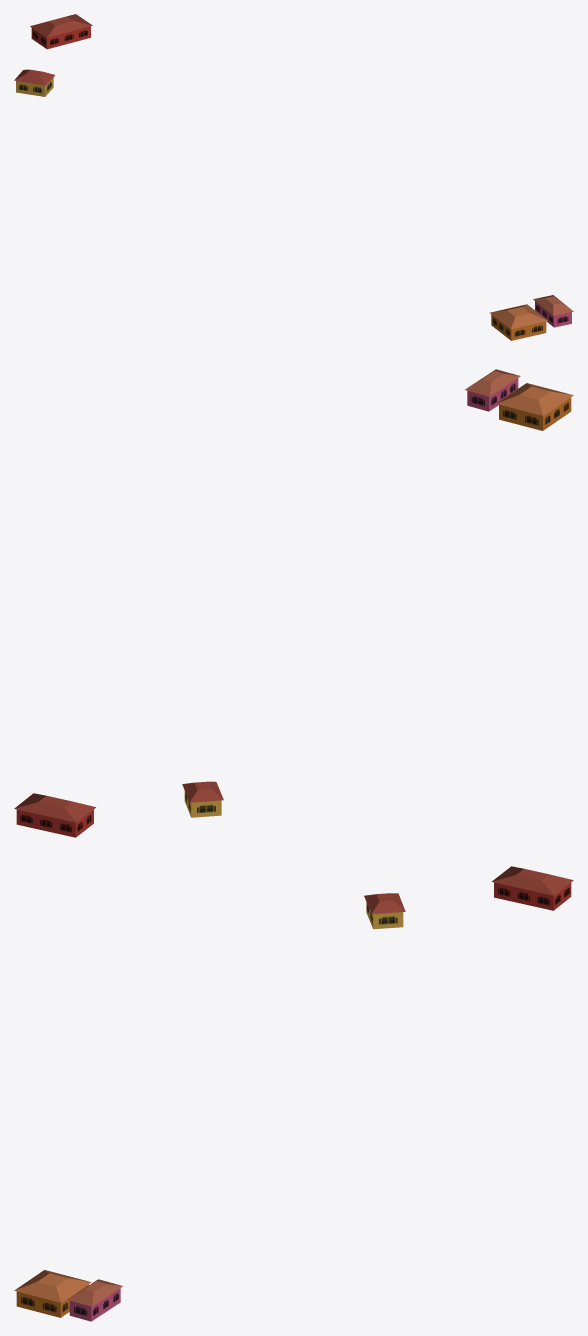
The model's file is msb_oranjestad_m9_m1.glb.
The picture shows the model from 3 angles, top to bottom: view 1: azimuth 30°, elevation 25°; view 2: azimuth 150°, elevation 25°; view 3: azimuth 330°, elevation 25°; orthographic projection. The views are drawn at different scales.
Parts seen in each view (by area): view 1: msb_oranjestad_m9_m1_lod0; view 2: msb_oranjestad_m9_m1_lod0; view 3: msb_oranjestad_m9_m1_lod0.
Boxes of the visible parts, x1,y1,x2,y2 form: msb_oranjestad_m9_m1_lod0: (14,14,573,340); msb_oranjestad_m9_m1_lod0: (14,369,573,837); msb_oranjestad_m9_m1_lod0: (14,866,573,1321).
Size of what is drawn, in the model's own units: 52.49 by 7.09 by 223.
Materials: 2 (1 with a texture image).
